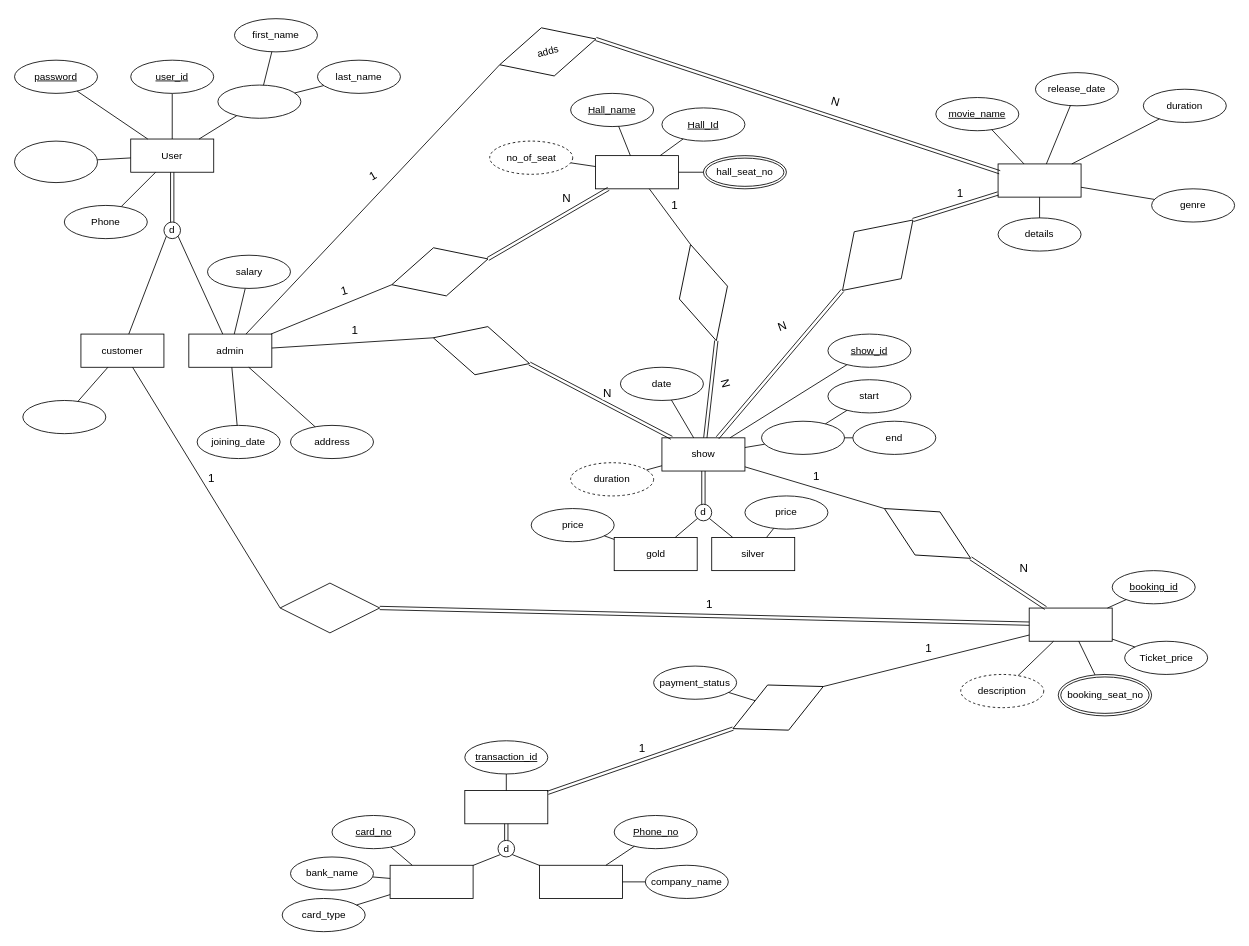
This 1249x946 diagram has some shape labels left out. Here are the shapes that lost their labels. From the top down, the box of each, then its label:
(217, 84, 301, 118): name
(14, 140, 98, 183): email
(595, 155, 679, 189): Hall
(997, 163, 1081, 197): movie
(384, 234, 495, 309): updates
(818, 196, 937, 314): screens
(666, 237, 740, 347): hosts
(426, 313, 536, 388): manages
(22, 400, 106, 434): customer_type
(761, 420, 845, 454): time
(871, 486, 983, 580): receives
(279, 582, 380, 633): makes
(1028, 607, 1112, 641): booking
(722, 663, 834, 751): settles
(464, 790, 548, 824): Payment
(389, 864, 473, 898): card
(539, 864, 622, 898): mobile_wallet
